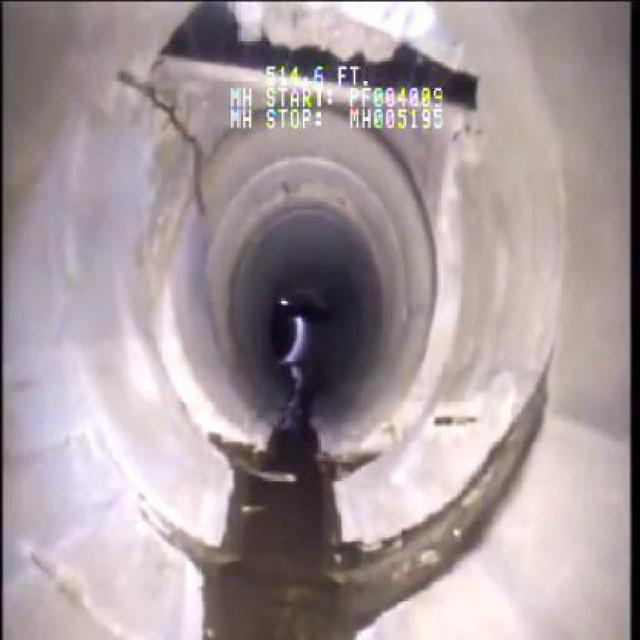Crack: (105, 72, 212, 220)
Utility intrusion: (174, 3, 481, 112)
